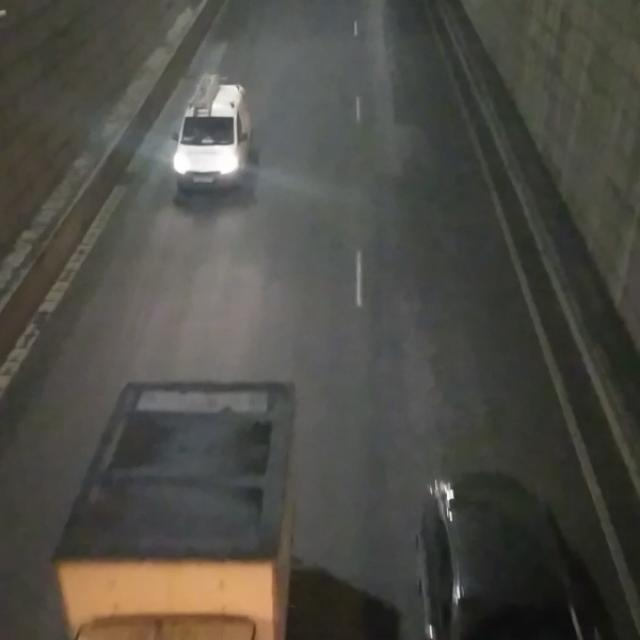car: (412, 472, 597, 640)
truck: (50, 376, 299, 640)
